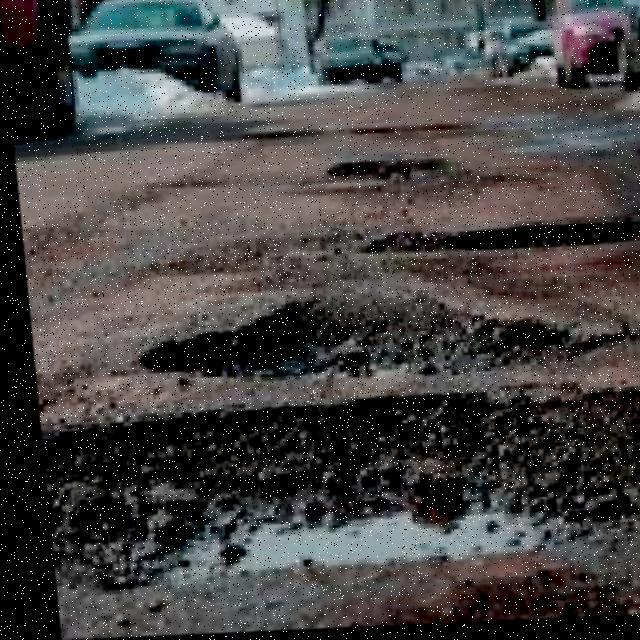pothole: (30, 380, 640, 599), (122, 283, 598, 392), (347, 222, 640, 262)
